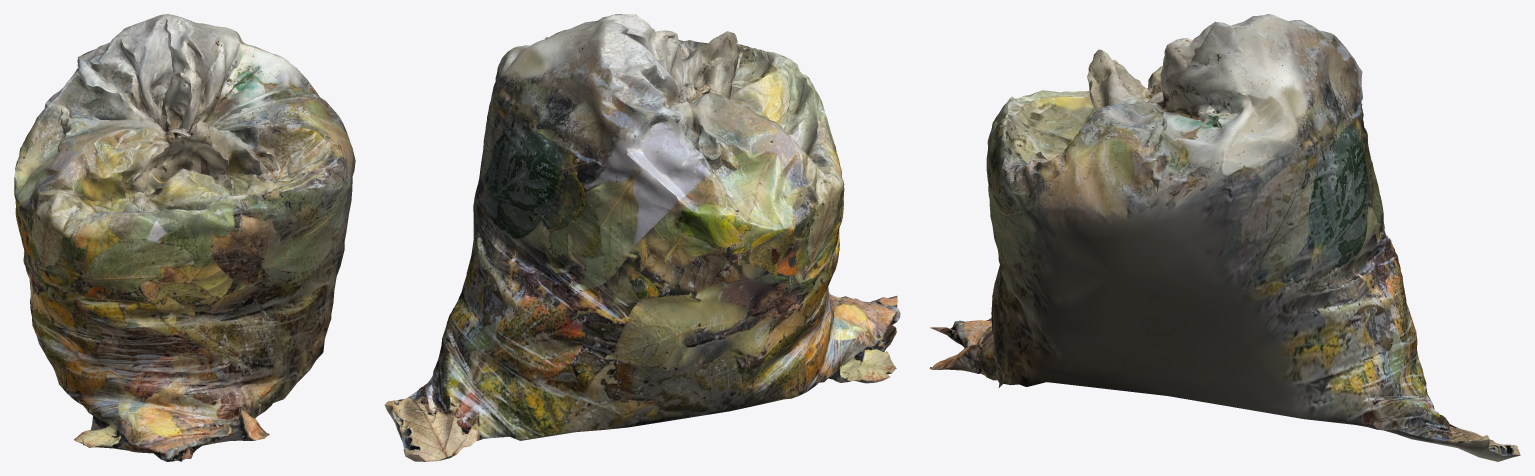
The model's file is leaf.gltf.
3 views of the same model, side by side, from view 1: azimuth 30°, elevation 25°; view 2: azimuth 150°, elevation 25°; view 3: azimuth 270°, elevation 25° (orthographic). The views are drawn at different scales.
Parts seen in each view (by area): view 1: Default; view 2: Default; view 3: Default.
Part boxes in pixels (x1,y1,x2,y2): Default: [14, 14, 355, 461]; Default: [384, 14, 900, 461]; Default: [930, 14, 1520, 461].
Bounding box in the file's own units: 0.00615 × 0.00654 × 0.00871.
1 material, 1 textured.
